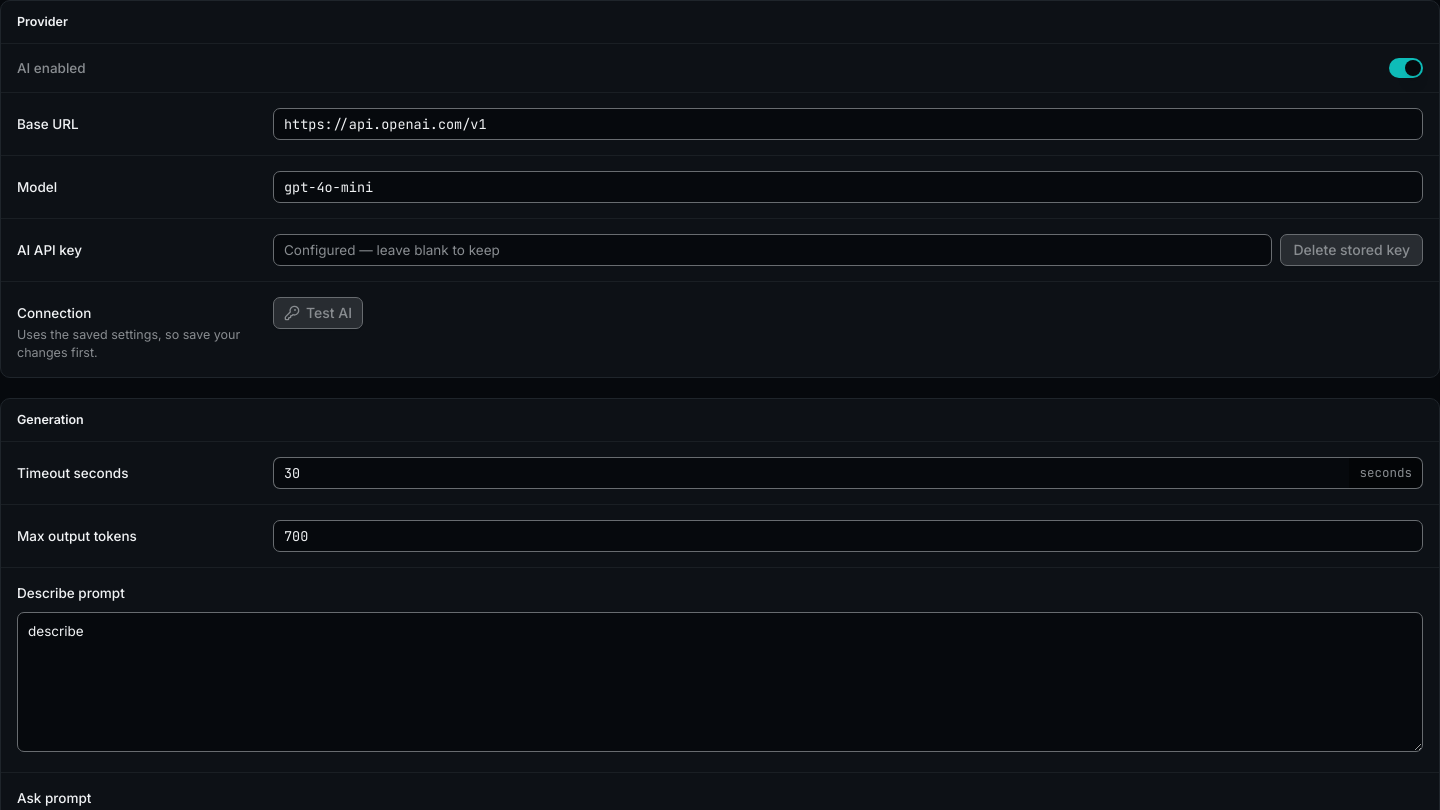
Test: Instance AI — connection test (WS-26) › reports a failed test request instead of showing nothing
The image size is (1440, 810).
Click the button "Test AI": click(318, 313) [273,297,363,329]
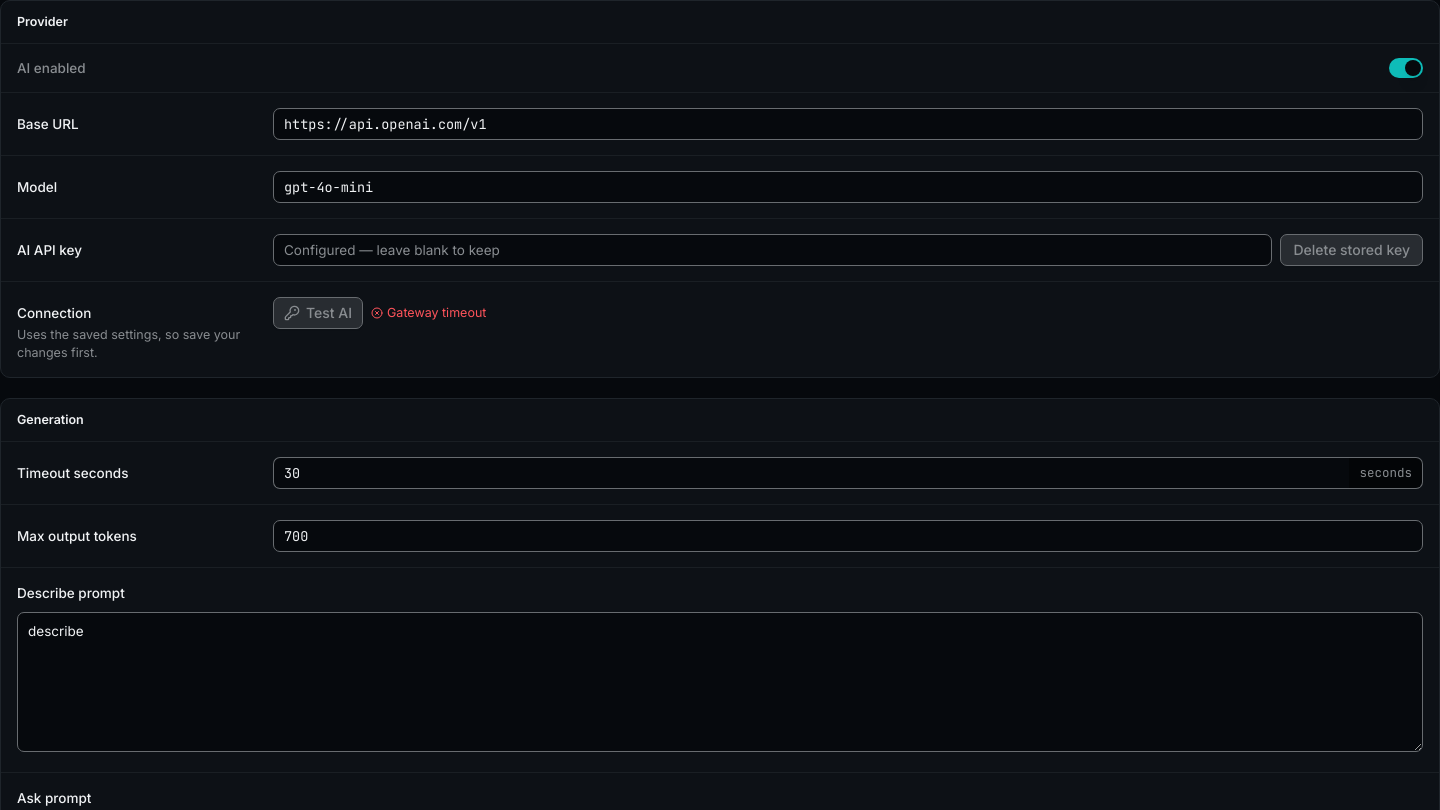
Check: the message reads "Gateway timeout", box [387,305,486,320]
